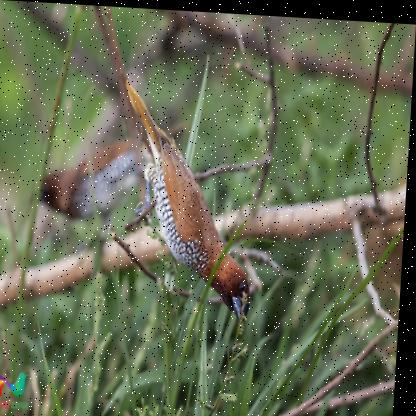Burung: (118, 78, 265, 320)
